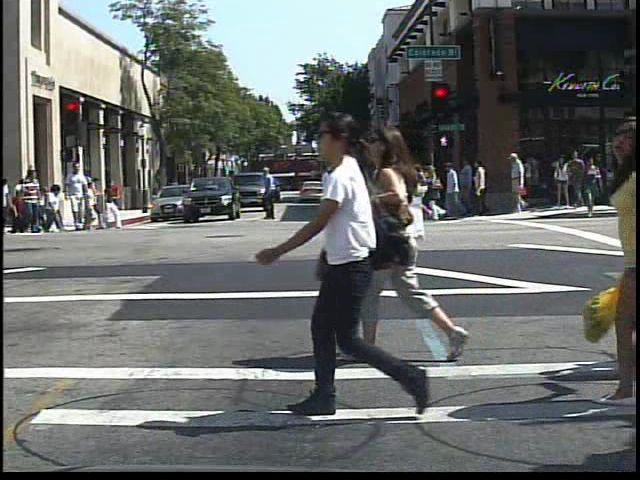person: (276, 106, 413, 422), (372, 119, 478, 366), (61, 161, 92, 233), (17, 168, 42, 236), (506, 148, 529, 214), (106, 175, 126, 214), (165, 173, 184, 206)
